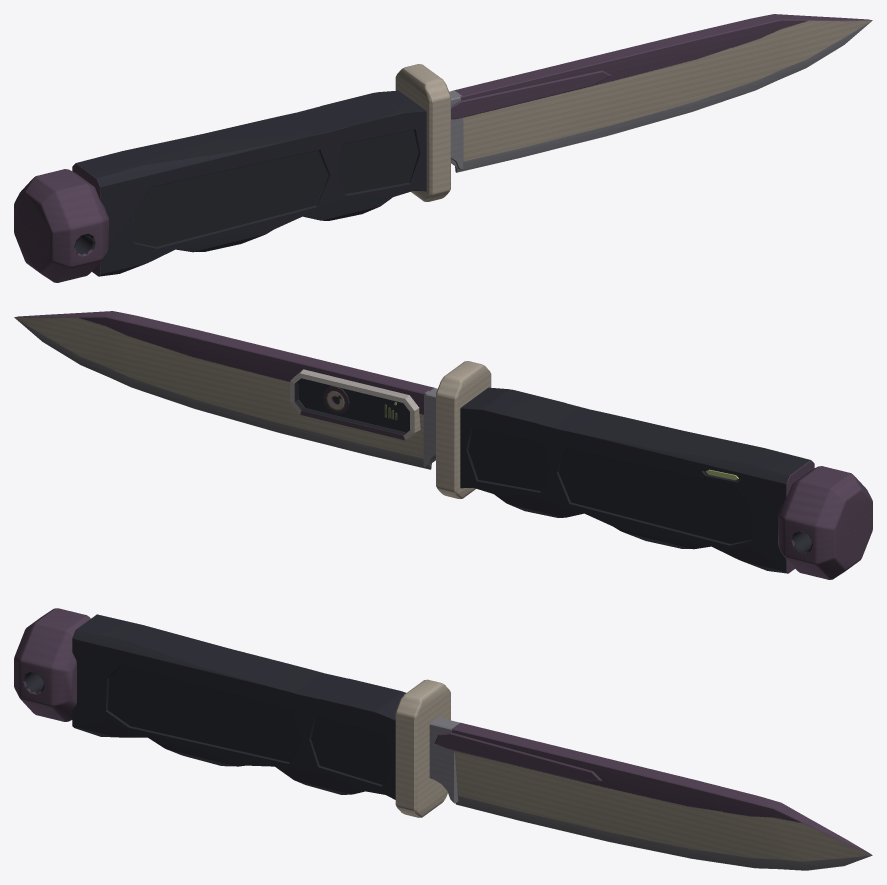
The model's file is Knife_Playback_v01.fbx.
3 renders of one model, top to bottom at view 1: azimuth 30°, elevation 25°; view 2: azimuth 150°, elevation 25°; view 3: azimuth 330°, elevation 25°, orthographic.
Parts seen in each view (by area): view 1: Knife_Hilt, Knife_Blade, Playback_SpineTrim; view 2: Knife_Hilt, Knife_Blade, Playback_SmokedWindow, Playback_CassetteHousing, Playback_CassetteBed, Playback_ReelFront; view 3: Knife_Hilt, Knife_Blade, Playback_SpineTrim.
Boxes of the visible parts, bbox=[...] form: Knife_Hilt: bbox=[14, 64, 450, 282]; Knife_Blade: bbox=[449, 14, 872, 172]; Playback_SpineTrim: bbox=[451, 70, 611, 119]; Knife_Hilt: bbox=[436, 361, 872, 579]; Knife_Blade: bbox=[14, 311, 437, 469]; Playback_SmokedWindow: bbox=[295, 379, 409, 434]; Playback_CassetteHousing: bbox=[290, 369, 420, 440]; Playback_CassetteBed: bbox=[298, 378, 409, 432]; Playback_ReelFront: bbox=[322, 386, 349, 413]; Knife_Hilt: bbox=[14, 608, 450, 817]; Knife_Blade: bbox=[429, 717, 872, 870]; Playback_SpineTrim: bbox=[434, 732, 601, 781].
Size of the model in its own units: 172 by 23.66 by 18.11.
Materials: 12 (12 with a texture image).
